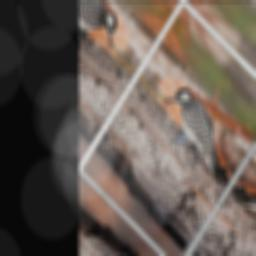Woodpecker: (144, 70, 253, 203)
